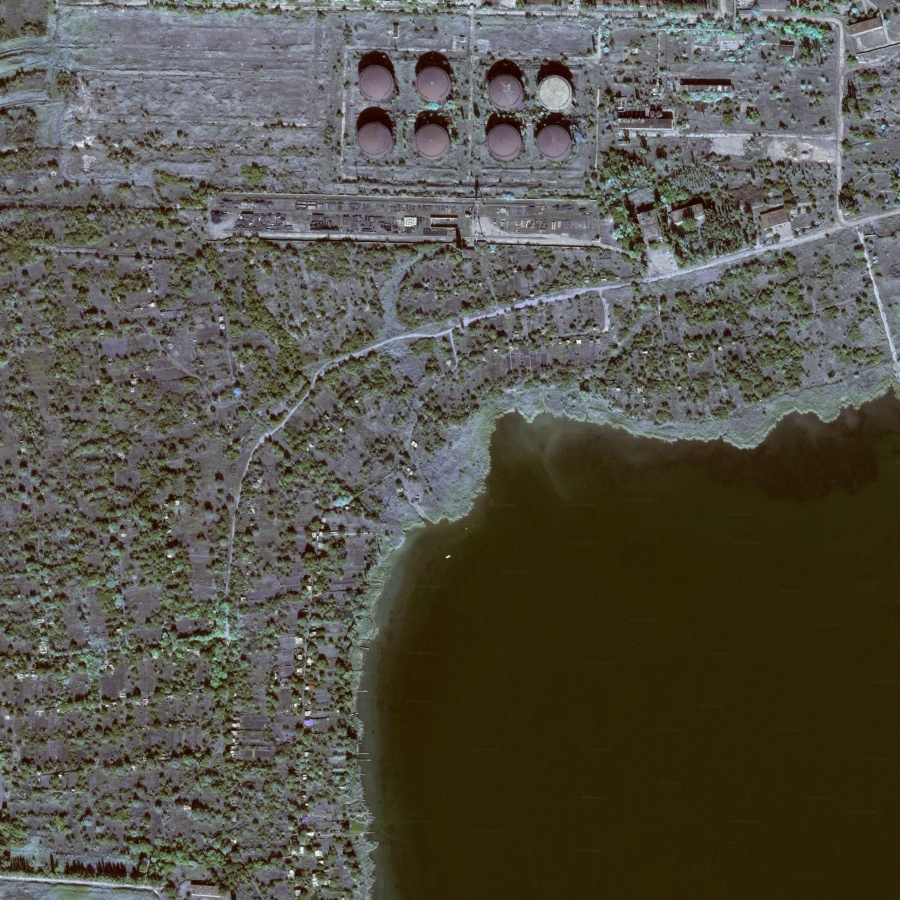PowerPlant: (323, 11, 593, 189)
